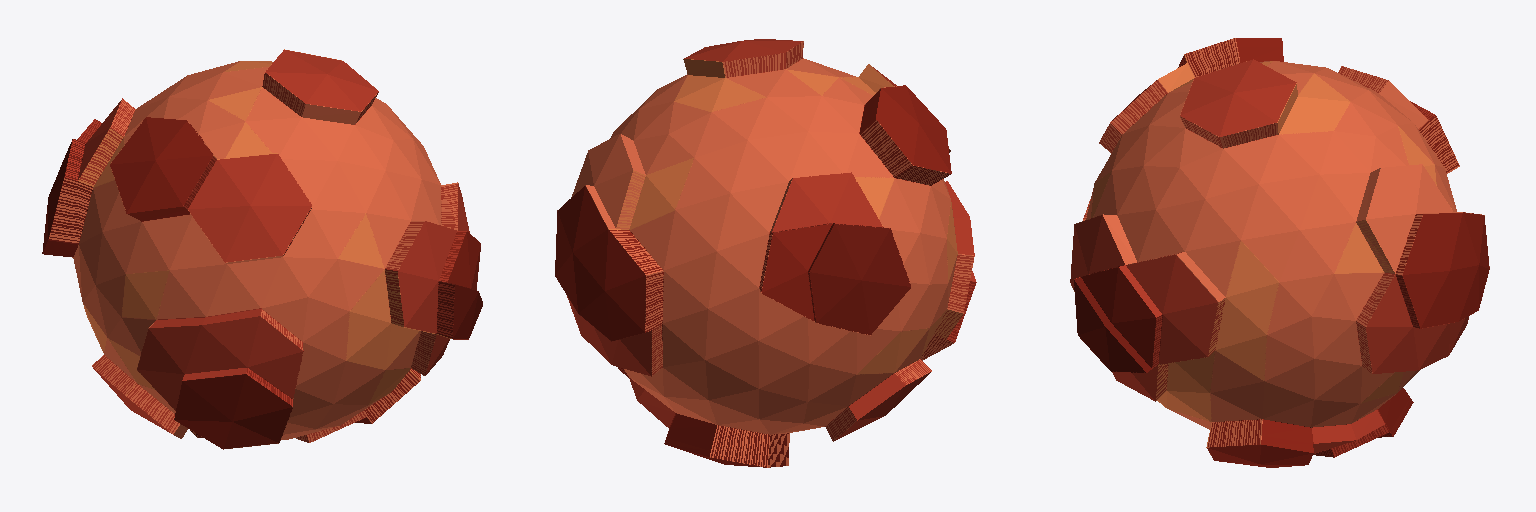
3 renders of one model, left to right at view 1: azimuth 30°, elevation 25°; view 2: azimuth 150°, elevation 25°; view 3: azimuth 270°, elevation 25°, orthographic.
Parts seen in each view (by area): view 1: Icosphere; view 2: Icosphere; view 3: Icosphere.
Boxes of the visible parts, x1=… form: Icosphere: x1=42, y1=49, x2=482, y2=449; Icosphere: x1=555, y1=39, x2=976, y2=467; Icosphere: x1=1070, y1=38, x2=1489, y2=467.
Size of the model in its own units: 2.12 by 2.25 by 2.19.
Materials: 1 (1 with a texture image).